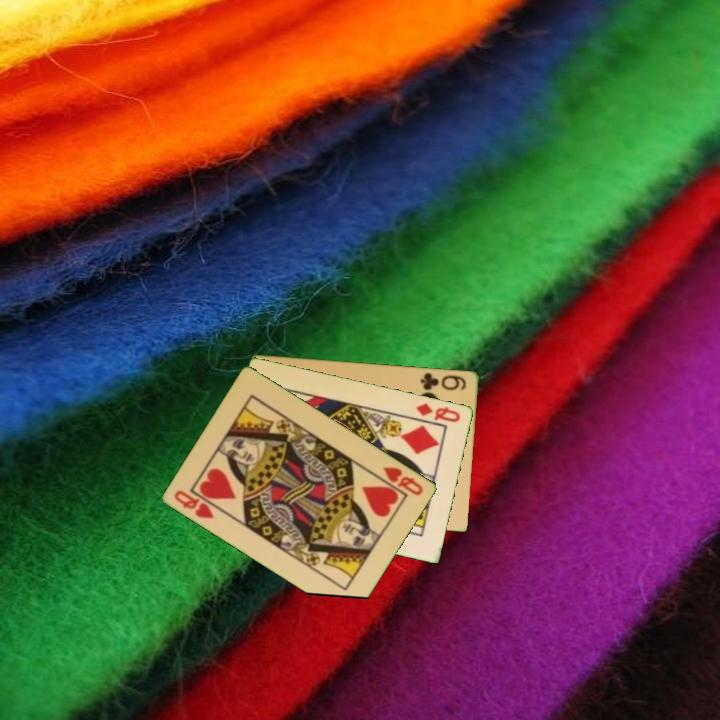6c: (417, 369, 469, 393)
Qd: (412, 399, 463, 425)
Qh: (171, 486, 217, 522), (380, 463, 427, 498)
